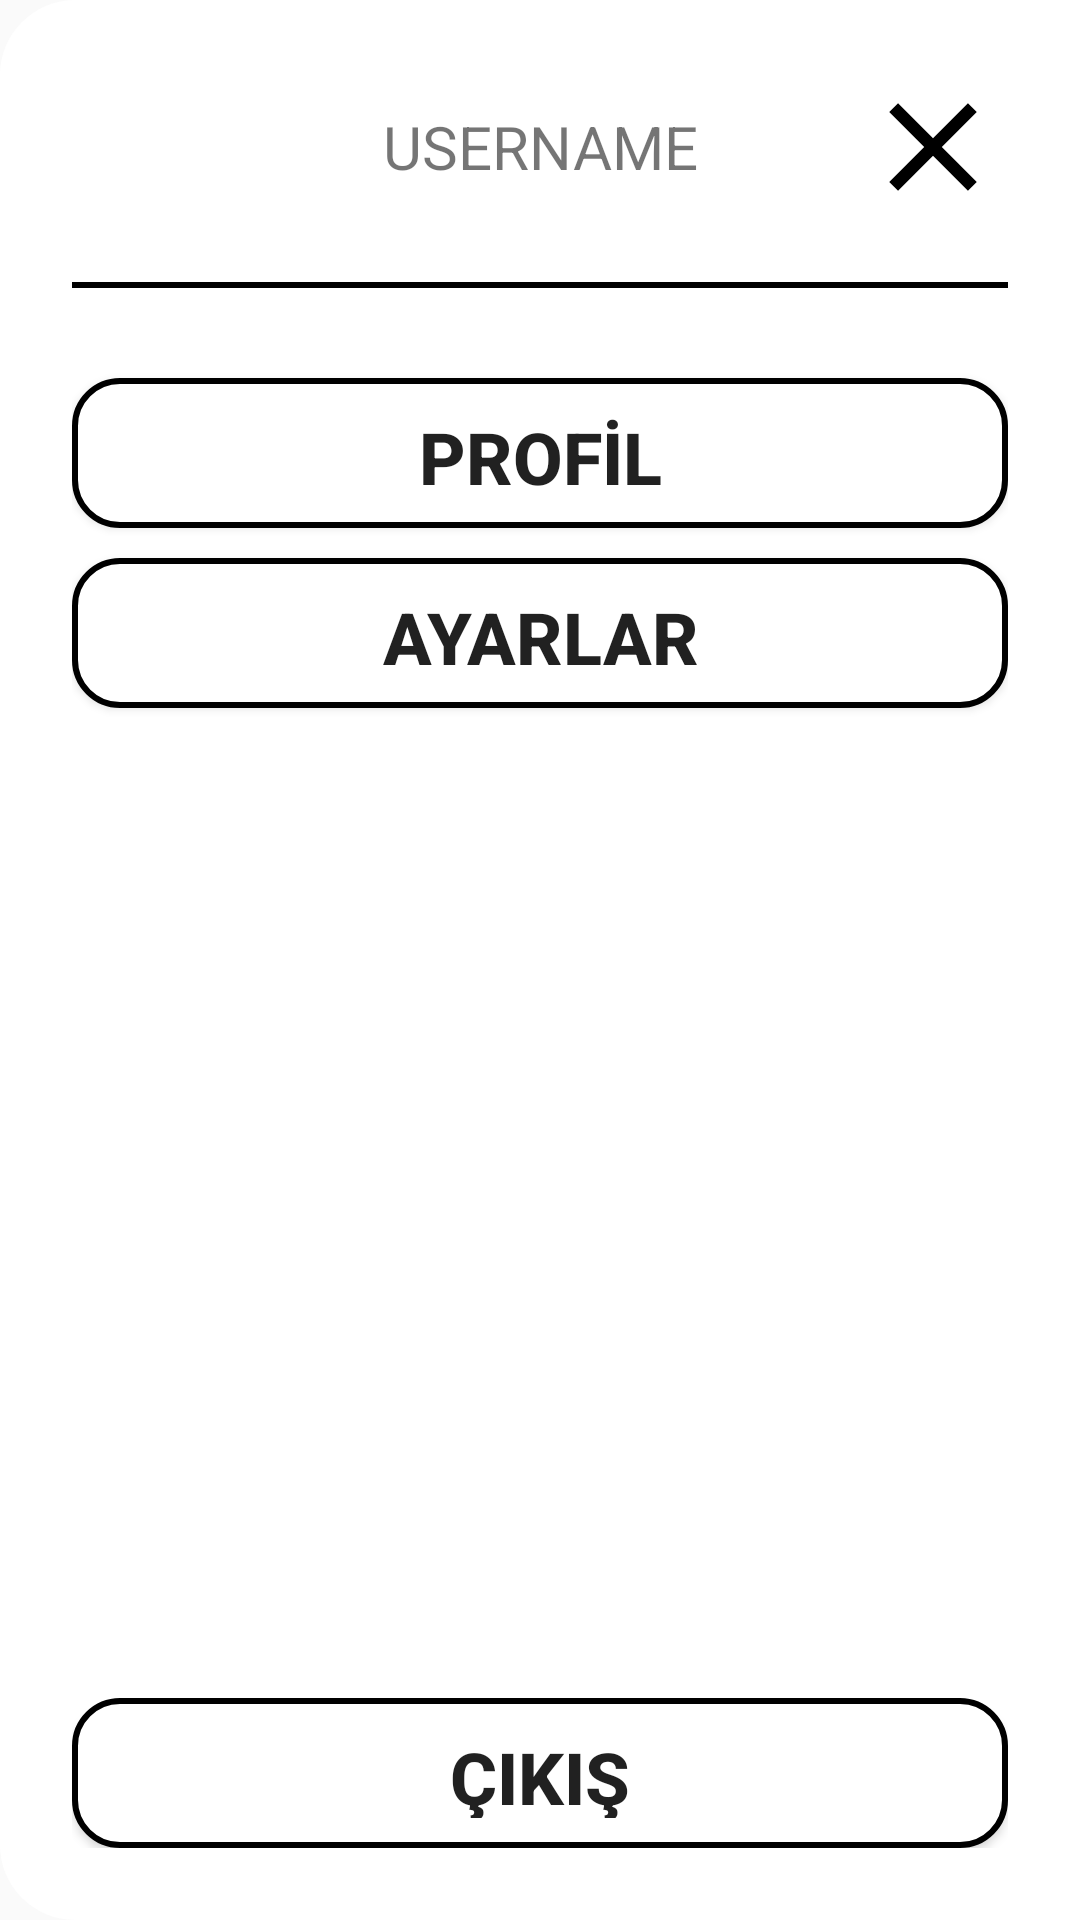

Where to tap for icons on this 1080px x 1920px app screen, as [x,y]:
close: [933,147]
